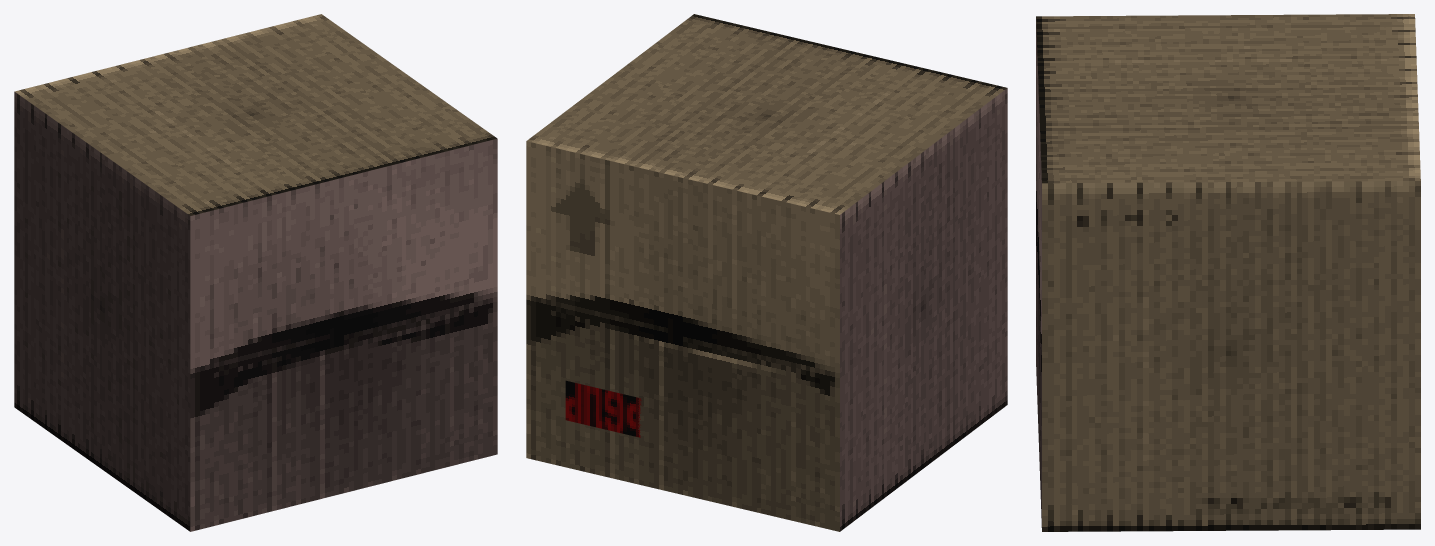
Rendered from primary_119.glb.
The picture shows the model from 3 angles, left to right: view 1: azimuth 30°, elevation 25°; view 2: azimuth 150°, elevation 25°; view 3: azimuth 270°, elevation 25°; orthographic projection. The views are drawn at different scales.
Parts seen in each view (by area): view 1: Object; view 2: Object; view 3: Object.
Part boxes in pixels (x1,y1,x2,y2): Object: (14,14,497,531); Object: (526,14,1007,531); Object: (1036,14,1420,531).
Bounding box in the file's own units: 1.14 × 1.09 × 1.09.
7 materials, 7 textured.
